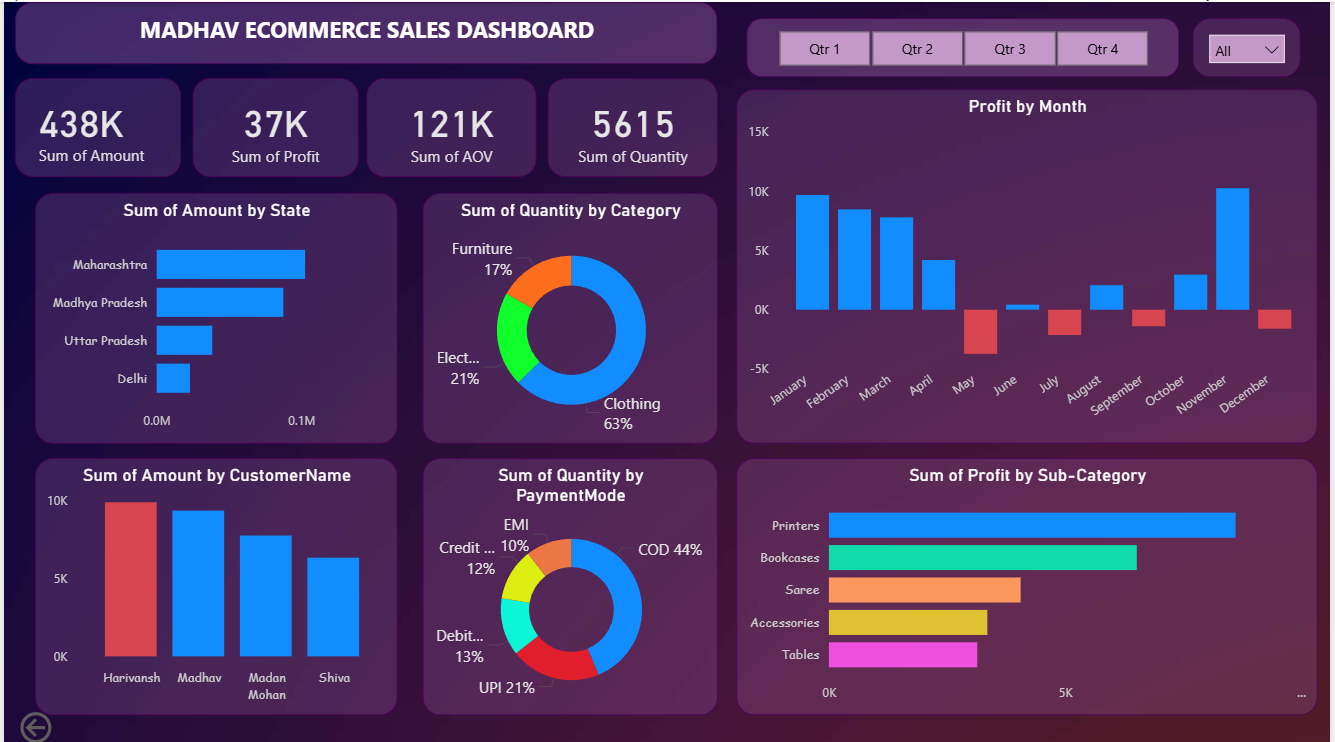

The page's visual inventory and layout, read from the dashboard file:
{"tool":"powerbi","page":{"name":"Page 1","canvas":[1280,720],"ordinal":0},"visuals":[{"type":"textbox","box":[10.8,0,677.5,59.6],"z":0},{"type":"columnChart","title":"Profit by Month","fields":{"Category":["Orders.Order Date.Variation.Date Hierarchy.Month"],"Y":["Details.Profit"]},"box":[707.4,84,561,341.5],"z":1000},{"type":"actionButton","box":[10.9,680.2,100.1,39.8],"z":2000},{"type":"barChart","fields":{"Category":["Details.Sub-Category"],"Y":["Details.Profit"]},"box":[707.4,440.4,561,248],"z":3000},{"type":"donutChart","fields":{"Category":["Details.Category"],"Y":["Details.Quantity"]},"box":[403.8,184.3,284.6,241.2],"z":4000},{"type":"donutChart","fields":{"Category":["Details.PaymentMode"],"Y":["Details.Quantity"]},"box":[403.8,440.4,284.6,248],"z":5000},{"type":"cardVisual","fields":{"Data":["Details.Amount"]},"box":[10.8,73.2,159.9,94.9],"z":6000},{"type":"cardVisual","fields":{"Data":["Details.Quantity"]},"box":[524.4,73.2,164,94.9],"z":7000},{"type":"cardVisual","fields":{"Data":["Details.Profit"]},"box":[181.6,73.2,159.9,94.9],"z":8000},{"type":"cardVisual","fields":{"Data":["Details.AOV"]},"box":[349.6,73.2,164,94.9],"z":9000},{"type":"barChart","fields":{"Y":["Details.Amount"],"Category":["Orders.State"]},"box":[29.8,184.3,349.6,241.2],"z":10000},{"type":"columnChart","fields":{"Category":["Orders.CustomerName"],"Y":["Details.Amount"]},"box":[29.8,440.4,349.6,248],"z":11000},{"type":"slicer","fields":{"Values":["Orders.Order Date.Variation.Date Hierarchy.Quarter"]},"box":[716.8,16.3,417.4,56.9],"z":12000},{"type":"slicer","fields":{"Values":["Orders.State"]},"box":[1147.8,16.3,104.3,56.9],"z":13000}]}

Visuals, with their boxes in screenshot pixels (x1, y1, x2, y2), scaled from the page's 1280x720 canvas onto the 1335x742 screenshot:
textbox: box(11, 0, 718, 61)
"Profit by Month" columnChart: box(738, 87, 1323, 439)
actionButton: box(11, 701, 116, 741)
barChart - Details.Sub-Category x Details.Profit: box(738, 454, 1323, 709)
donutChart - Details.Category x Details.Quantity: box(421, 190, 718, 439)
donutChart - Details.PaymentMode x Details.Quantity: box(421, 454, 718, 709)
cardVisual - Details.Amount: box(11, 75, 178, 173)
cardVisual - Details.Quantity: box(547, 75, 718, 173)
cardVisual - Details.Profit: box(189, 75, 356, 173)
cardVisual - Details.AOV: box(365, 75, 536, 173)
barChart - Details.Amount x Orders.State: box(31, 190, 396, 439)
columnChart - Orders.CustomerName x Details.Amount: box(31, 454, 396, 709)
slicer - Orders.Order Date.Variation.Date Hierarchy.Quarter: box(748, 17, 1183, 75)
slicer - Orders.State: box(1197, 17, 1306, 75)
